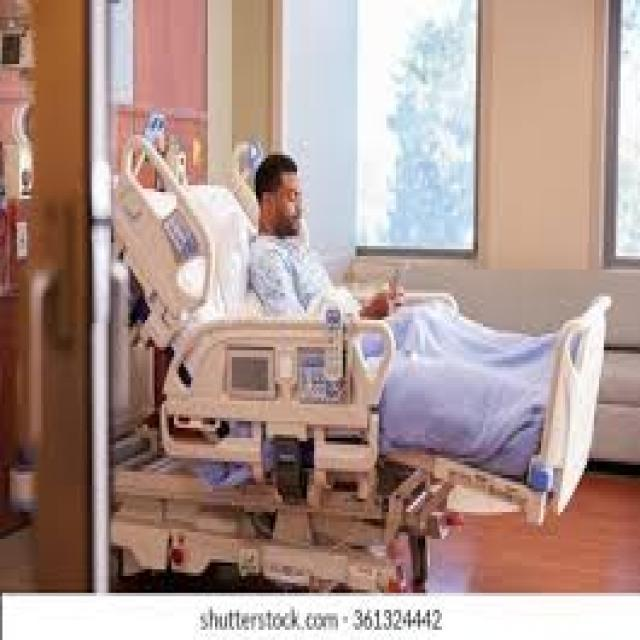patient_bed: (135, 103, 616, 527)
